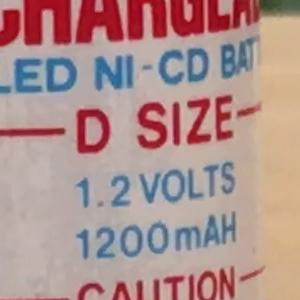keyword: (79, 38, 229, 122)
